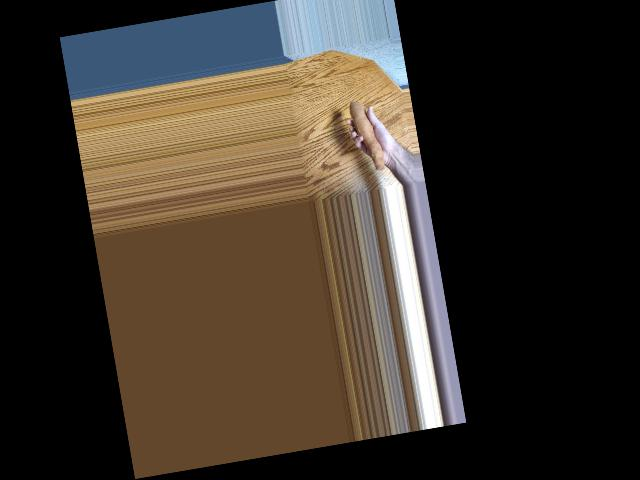sweet_potato: (347, 96, 386, 171)
